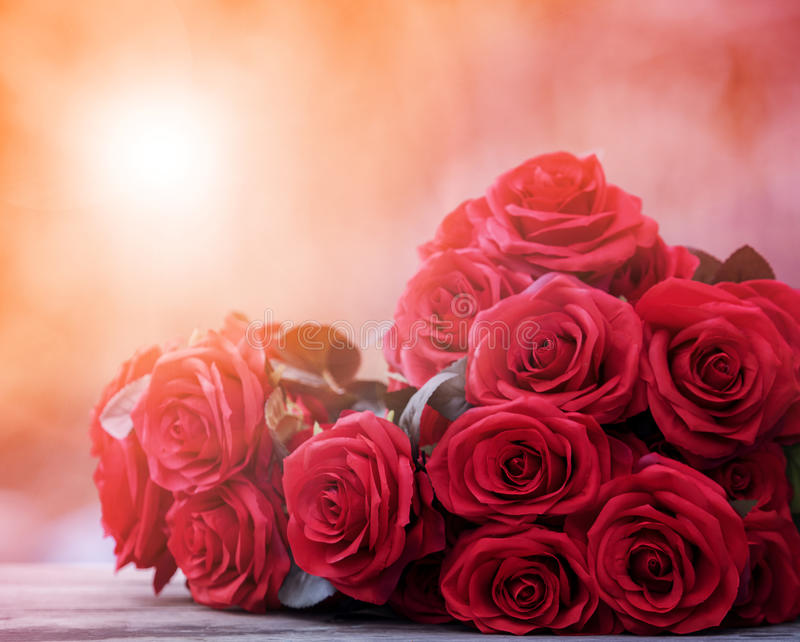RedRose: (416, 136, 696, 290), (587, 453, 748, 640), (633, 273, 800, 449), (461, 271, 658, 419), (282, 412, 420, 604), (418, 395, 605, 528), (375, 249, 526, 389), (122, 351, 267, 493), (443, 507, 593, 640), (160, 477, 289, 612), (90, 371, 173, 573), (718, 507, 800, 642), (706, 432, 800, 521)
